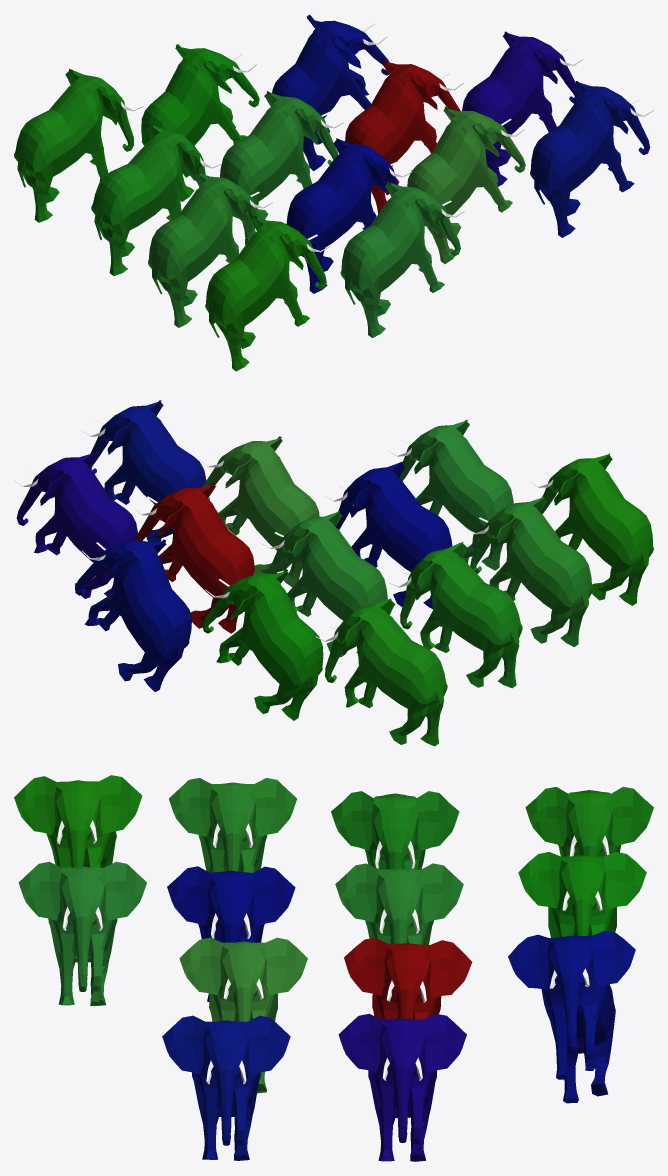
The picture shows the model from 3 angles, top to bottom: view 1: azimuth 30°, elevation 25°; view 2: azimuth 150°, elevation 25°; view 3: azimuth 270°, elevation 25°; orthographic projection. The views are drawn at different scales.
Parts seen in each view (by area): view 1: Elephant_0.011, Elephant_0.004, Elephant_0.003, Elephant_0.001, Elephant_0.002, Elephant_0, Elephant_0.006, Elephant_0.010, Elephant_0.005, Elephant_0.012, Elephant_0.007, Elephant_0.008 (+1 smaller); view 2: Elephant_0.001, Elephant_0, Elephant_0.008, Elephant_0.007, Elephant_0.002, Elephant_0.003, Elephant_0.009, Elephant_0.012, Elephant_0.004, Elephant_0.006, Elephant_0.005, Elephant_0.010 (+1 smaller); view 3: Elephant_0.008, Elephant_0.012, Elephant_0.011, Elephant_0.004, Elephant_0.002, Elephant_0.003, Elephant_0.010, Elephant_0.007, Elephant_0.009, Elephant_0.006, Elephant_0, Elephant_0.005 (+1 smaller).
Boxes of the visible parts, <box> form: Elephant_0.011: <box>530,81,653,237</box>; Elephant_0.004: <box>340,181,464,337</box>; Elephant_0.003: <box>205,214,330,371</box>; Elephant_0.001: <box>14,69,143,222</box>; Elephant_0.002: <box>148,171,272,327</box>; Elephant_0: <box>91,123,221,275</box>; Elephant_0.006: <box>220,91,343,244</box>; Elephant_0.010: <box>407,106,525,263</box>; Elephant_0.005: <box>286,138,412,293</box>; Elephant_0.012: <box>462,31,583,186</box>; Elephant_0.007: <box>141,44,259,201</box>; Elephant_0.008: <box>272,14,389,170</box>; Elephant_0.001: <box>315,598,447,746</box>; Elephant_0: <box>389,542,522,688</box>; Elephant_0.008: <box>75,539,191,691</box>; Elephant_0.007: <box>202,569,323,720</box>; Elephant_0.002: <box>465,496,592,647</box>; Elephant_0.003: <box>529,453,653,605</box>; Elephant_0.009: <box>133,482,254,633</box>; Elephant_0.012: <box>14,452,137,598</box>; Elephant_0.004: <box>388,419,513,570</box>; Elephant_0.006: <box>261,511,387,657</box>; Elephant_0.005: <box>324,461,452,608</box>; Elephant_0.010: <box>199,436,319,587</box>; Elephant_0.008: <box>508,931,635,1103</box>; Elephant_0.012: <box>338,1013,466,1161</box>; Elephant_0.011: <box>162,1015,290,1160</box>; Elephant_0.004: <box>18,861,146,1005</box>; Elephant_0.002: <box>169,778,296,872</box>; Elephant_0.003: <box>14,775,142,867</box>; Elephant_0.010: <box>179,937,307,1093</box>; Elephant_0.007: <box>518,852,646,937</box>; Elephant_0.009: <box>344,938,472,1019</box>; Elephant_0.006: <box>335,863,463,944</box>; Elephant_0: <box>331,791,459,869</box>; Elephant_0.005: <box>167,866,295,1007</box>.
Size of the model in its own units: 8.61 by 2.34 by 7.48.
